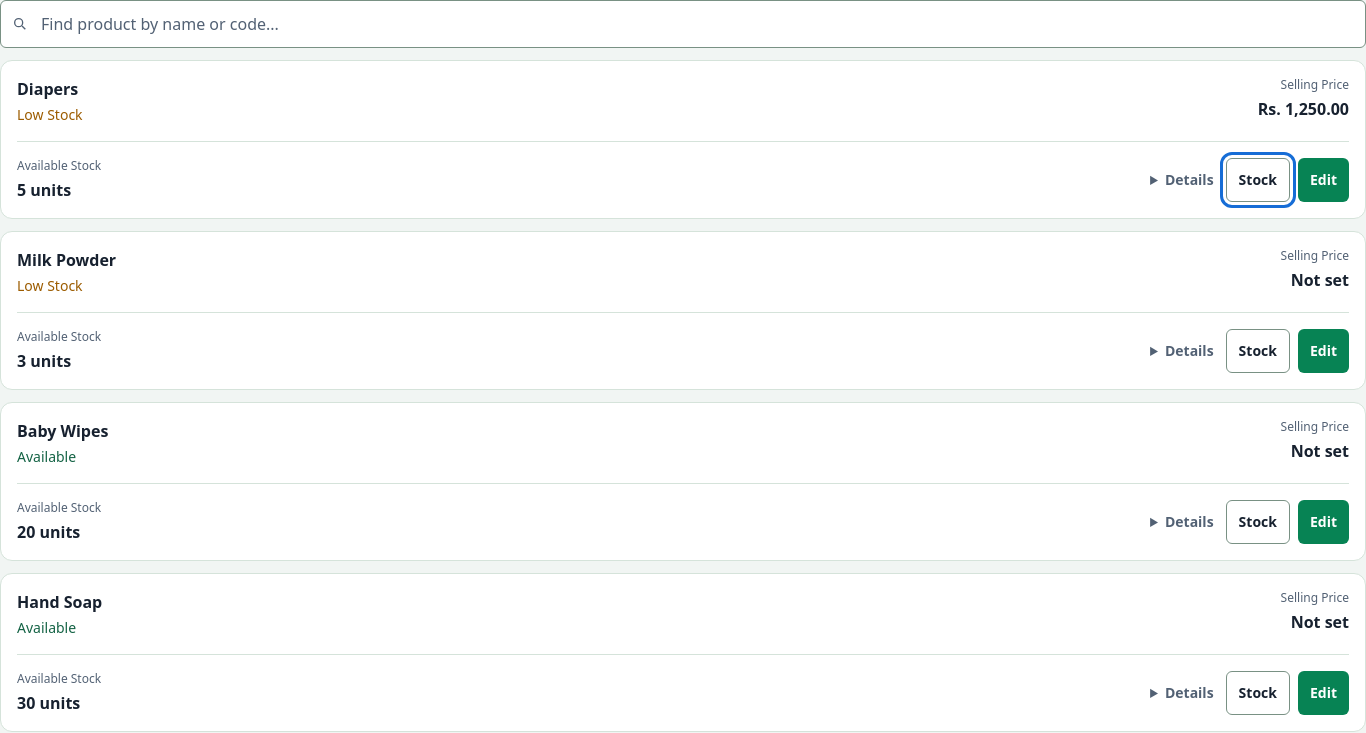
Scenario: separate Add Stock purchase preview › closes on a valid demo preview, announces exact expenditure and leaves quantities and prices unchanged
Click the button with aria-label "Add stock for Diapers".
click(1258, 180)  # box [1226, 158, 1290, 202]
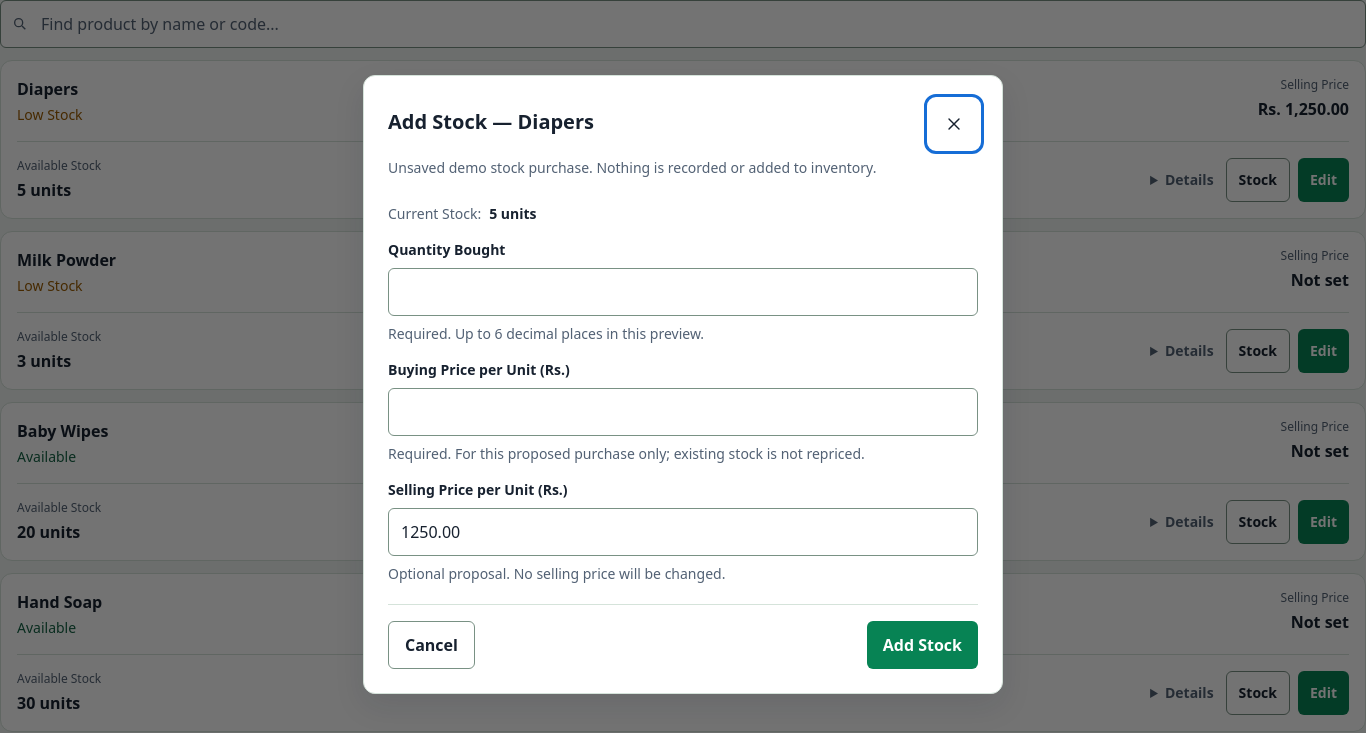
Type "2" into the field labelled "Quantity Bought".
click(683, 292); type("2")  # box [388, 268, 978, 316]
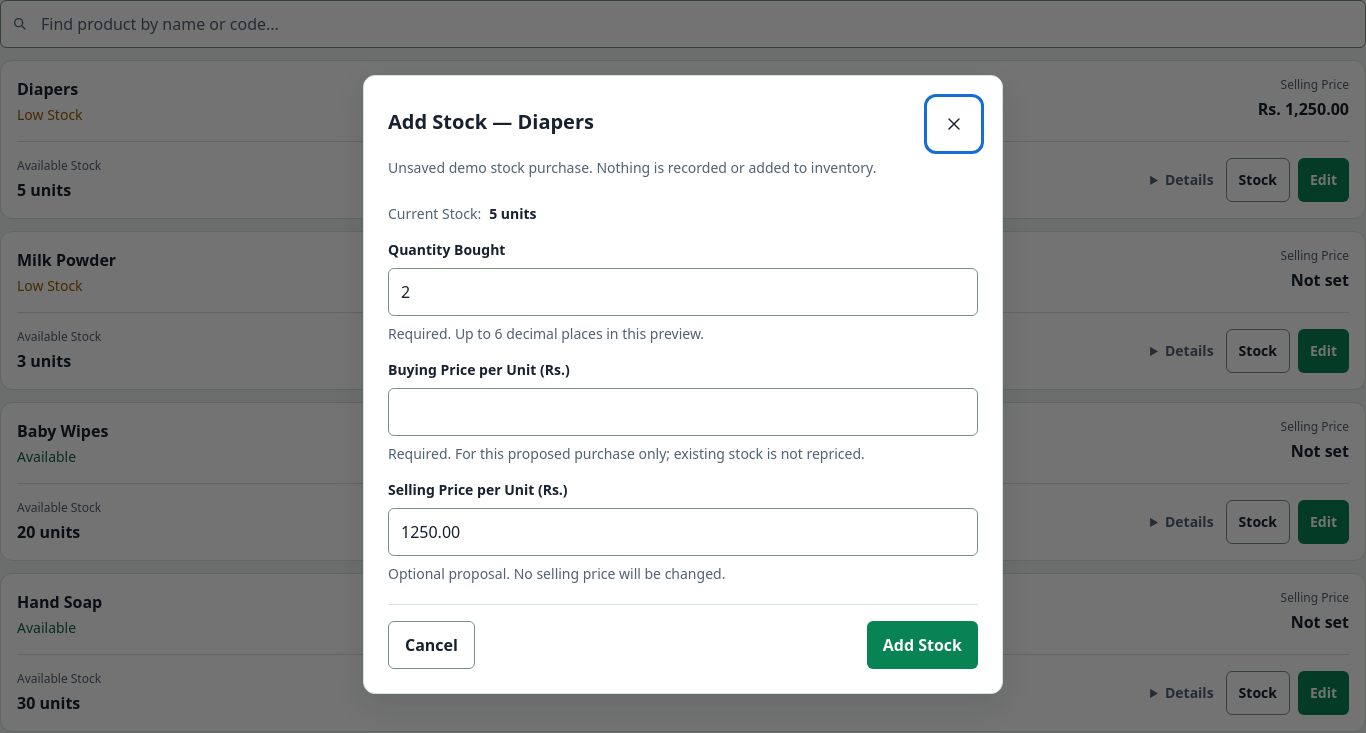
Type "1250.25" into the field labelled "Buying Price per Unit (Rs.)".
click(683, 412); type("1250.25")  # box [388, 388, 978, 436]
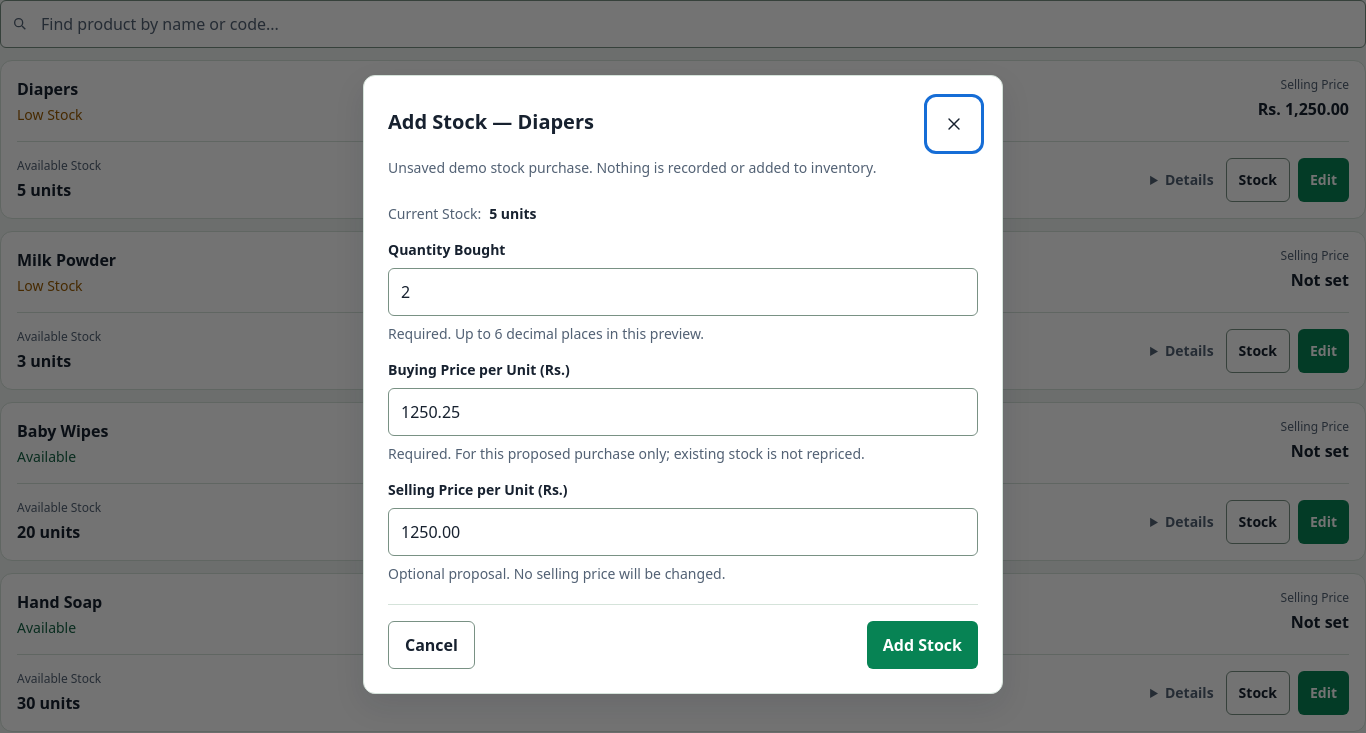
Replace the text in the field labelled "Selling Price per Unit (Rs.)" with "1500" at (683, 532), box [388, 508, 978, 556]
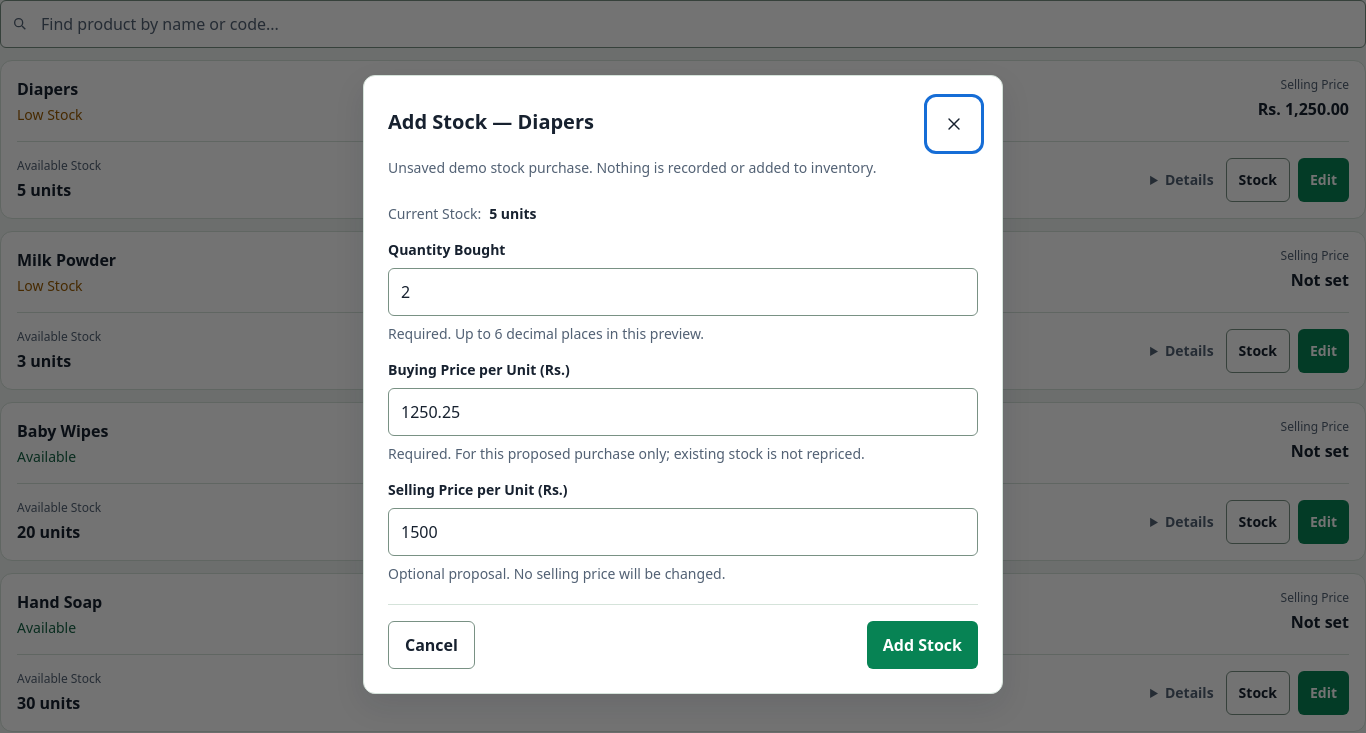
Submit the form, box [388, 240, 978, 668]
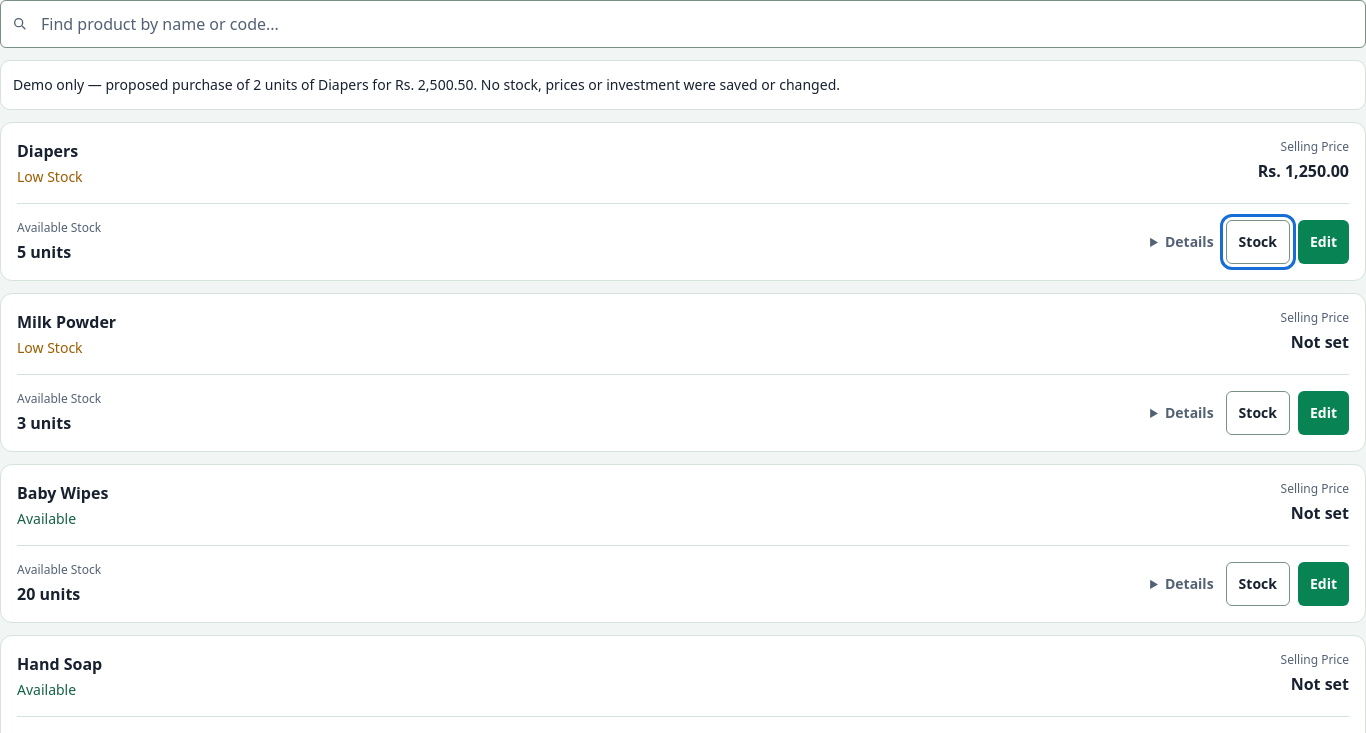
Result: the dialog is gone
Result: the message with test id "stock-purchase-notice" shows "Rs. 2,500.50" at [13, 75, 840, 94]
Result: the message with test id "stock-purchase-notice" shows "No stock, prices or investment were saved or changed." at [13, 75, 840, 94]
Click the button with aria-label "Add stock for Diapers".
click(1258, 242)  # box [1226, 220, 1290, 264]
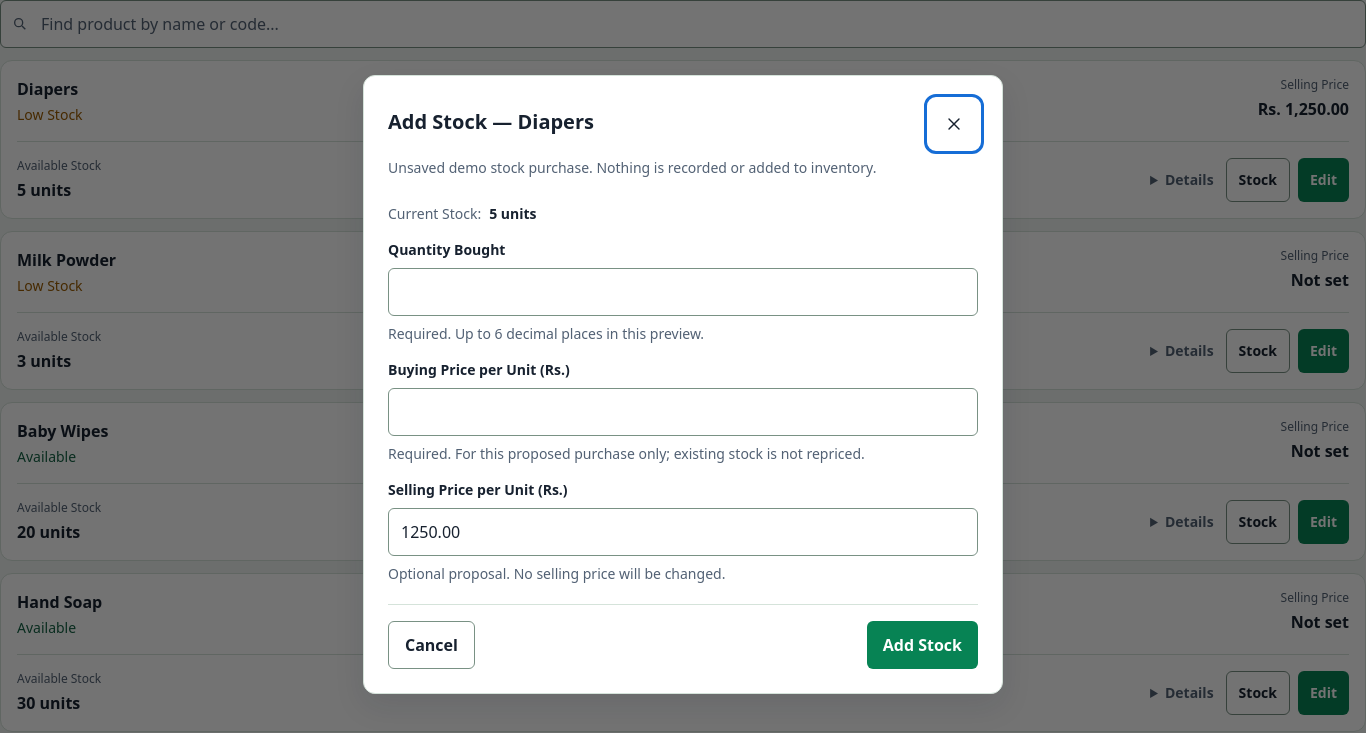
Result: the field labelled "Quantity Bought" is empty at [388, 268, 978, 316]
Result: the field labelled "Selling Price per Unit (Rs.)" holds "1250.00" at [388, 508, 978, 556]
